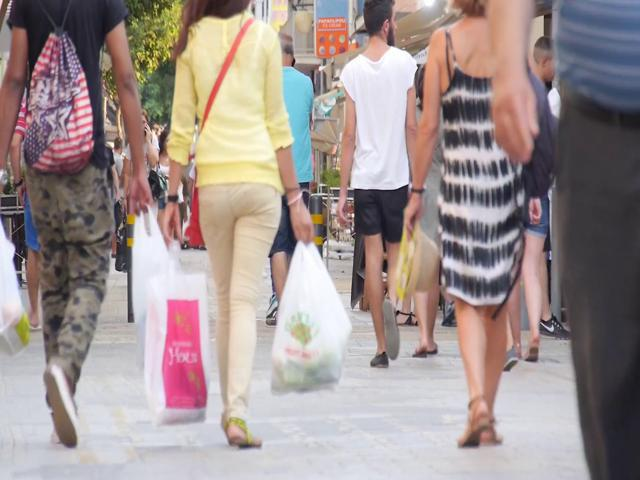shoe: (43, 365, 80, 448), (458, 401, 489, 447), (227, 419, 262, 447), (383, 301, 399, 359), (540, 315, 572, 340), (371, 352, 389, 367)
